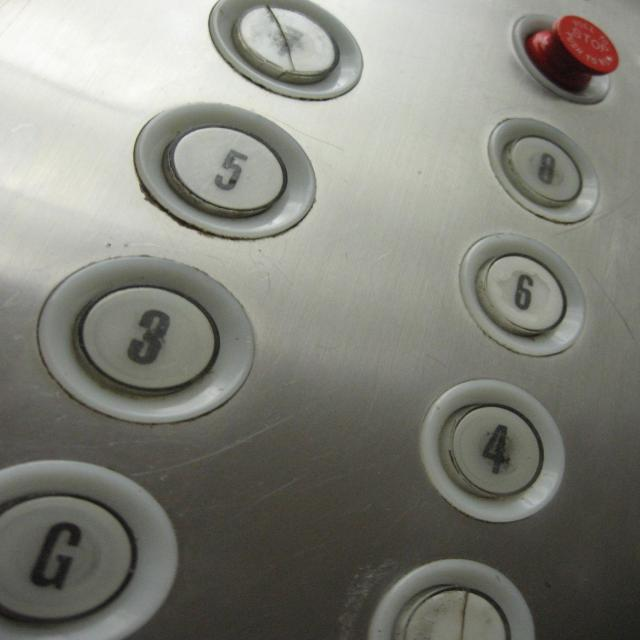3: (28, 250, 260, 430)
4: (414, 377, 572, 528)
5: (128, 100, 322, 244)
6: (453, 231, 591, 360)
8: (482, 113, 606, 227)
G: (0, 456, 187, 639)
empty: (202, 0, 370, 104)
text_stop: (508, 8, 626, 108)
